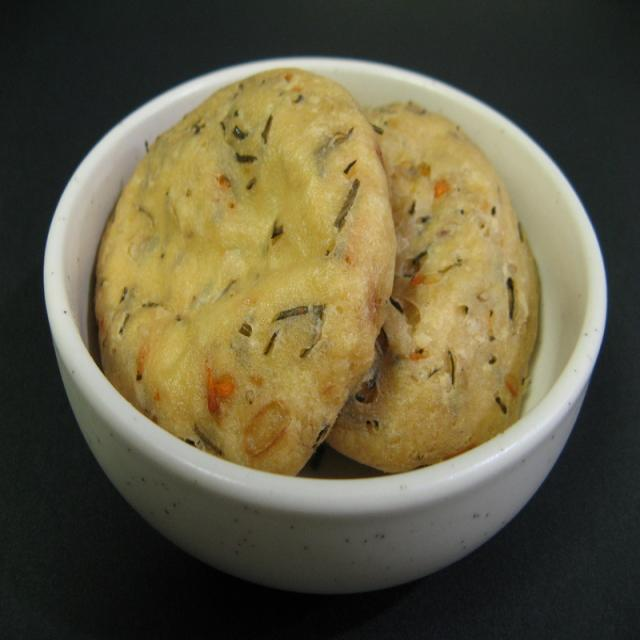熟制海鲜: (69, 66, 542, 497)
